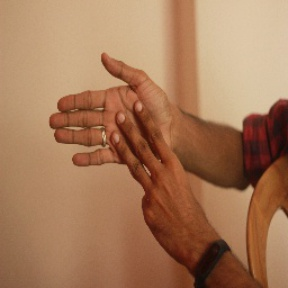M: (47, 52, 179, 199)
